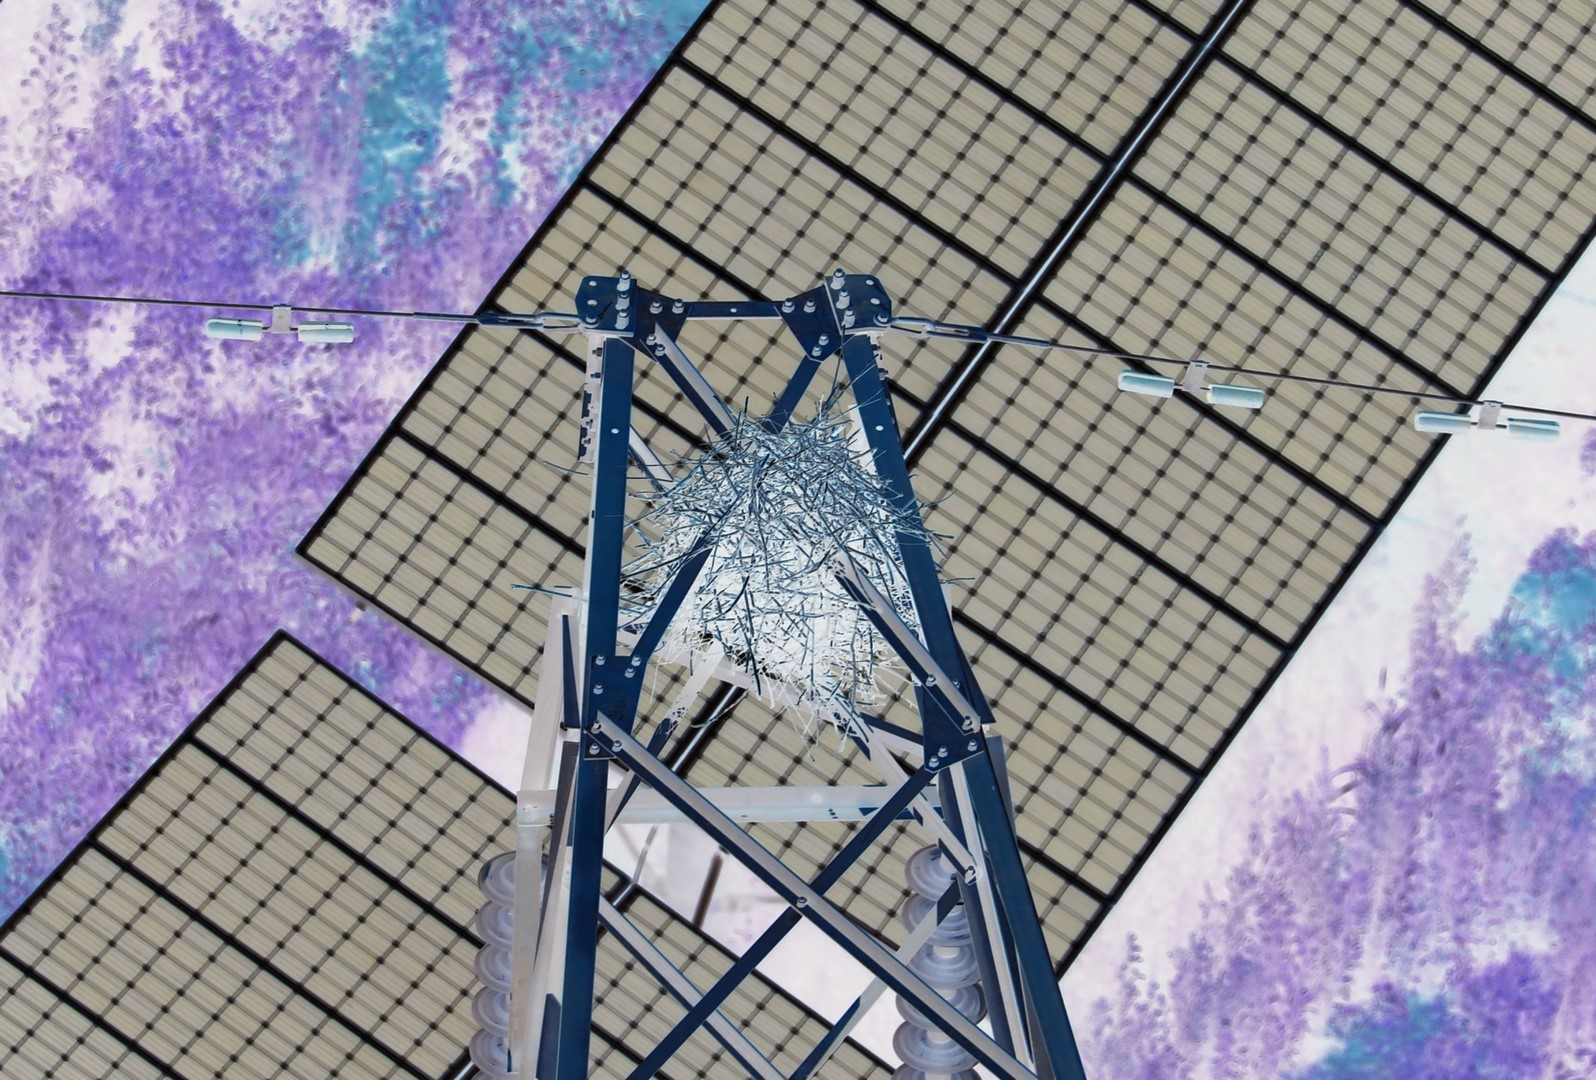niaowo: (620, 386, 950, 711)
